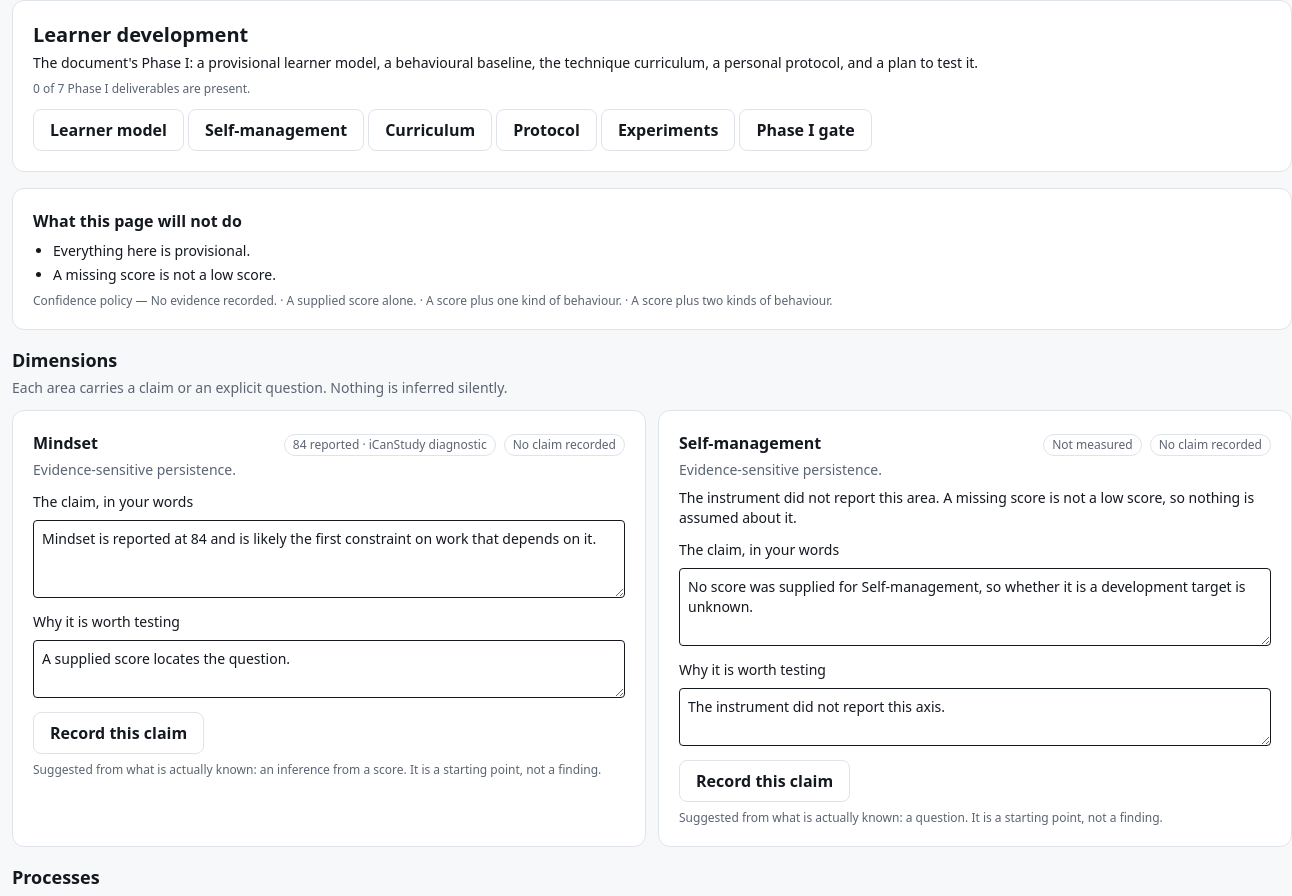
Test: the gate panel › reports what is outstanding instead of claiming completion
Click the button "Phase I gate" at (806, 130), box [739,109,872,151]
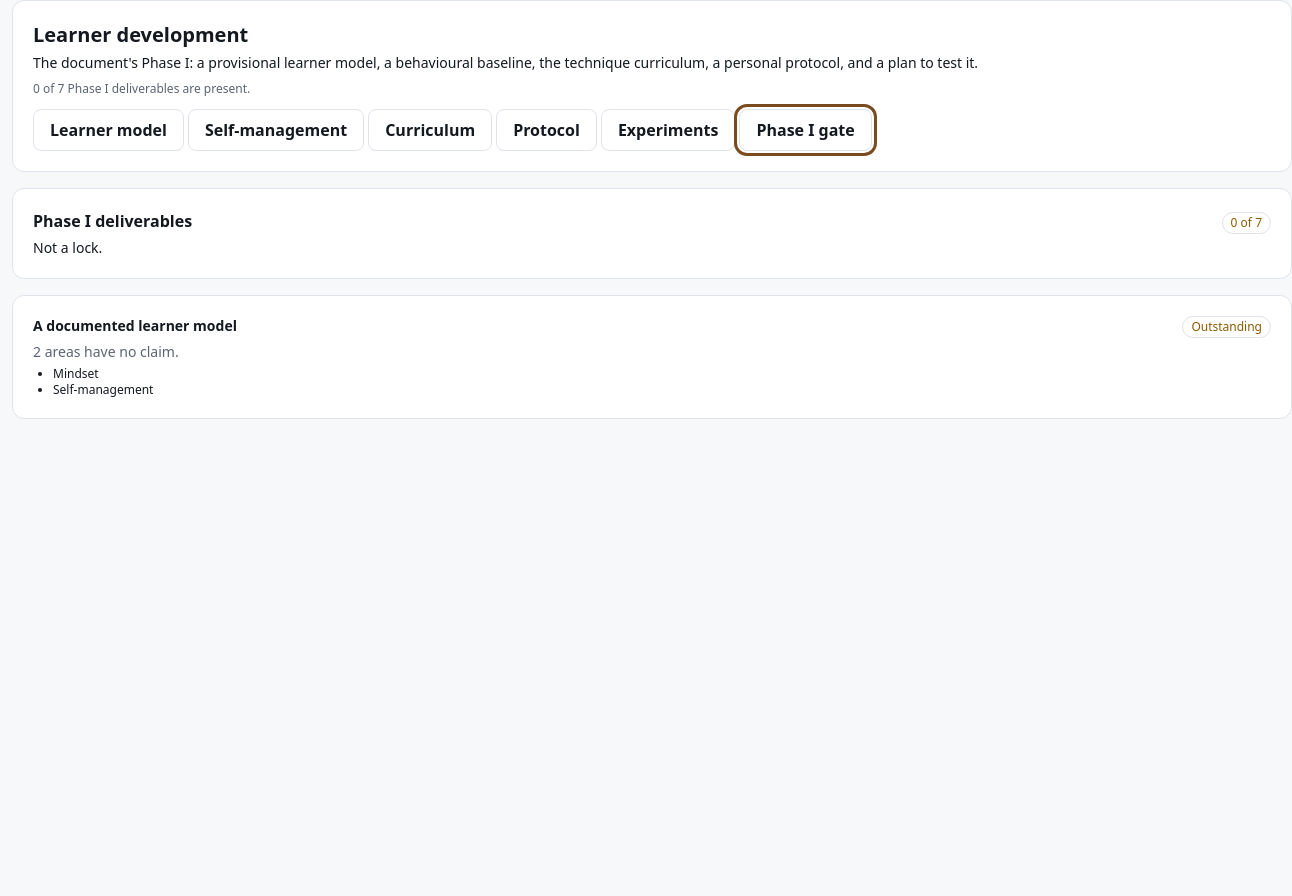
Expected: the heading "A documented learner model" is shown, [33,316,237,336]
Expected: the text "Outstanding" is shown, [1182,316,1271,338]
Expected: the text "0 of 7" is shown, [1222,212,1271,234]
